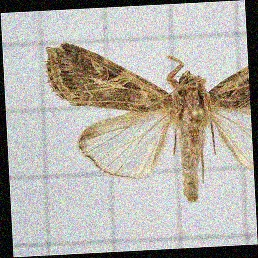Spodoptera litura: (48, 38, 251, 206)
